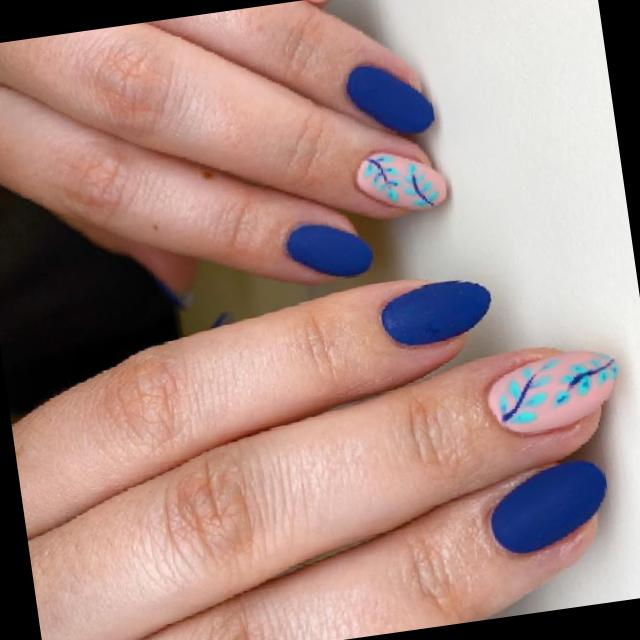Nail: (490, 459, 605, 553), (488, 351, 618, 434), (381, 280, 490, 346), (346, 64, 434, 132), (356, 152, 446, 208), (285, 223, 372, 277)
